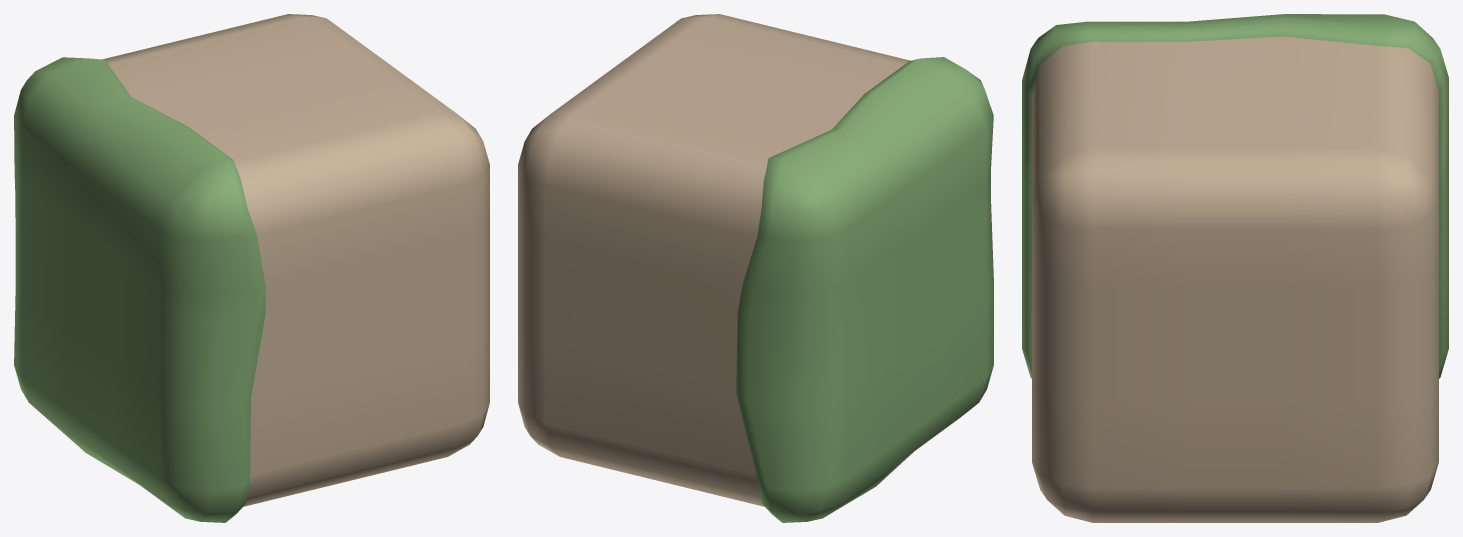
Rendered from topTile_mesh.fbx.
The picture shows the model from 3 angles, left to right: view 1: azimuth 30°, elevation 25°; view 2: azimuth 150°, elevation 25°; view 3: azimuth 270°, elevation 25°; orthographic projection. The views are drawn at different scales.
Visible parts, largest first — view 1: edgeTileTop_mesh; view 2: edgeTileTop_mesh; view 3: edgeTileTop_mesh.
Boxes of the visible parts, x1=… form: edgeTileTop_mesh: x1=14, y1=14, x2=489, y2=522; edgeTileTop_mesh: x1=518, y1=14, x2=993, y2=522; edgeTileTop_mesh: x1=1022, y1=14, x2=1448, y2=522.
Bounding box in the file's own units: 1 × 1.05 × 1.05.
